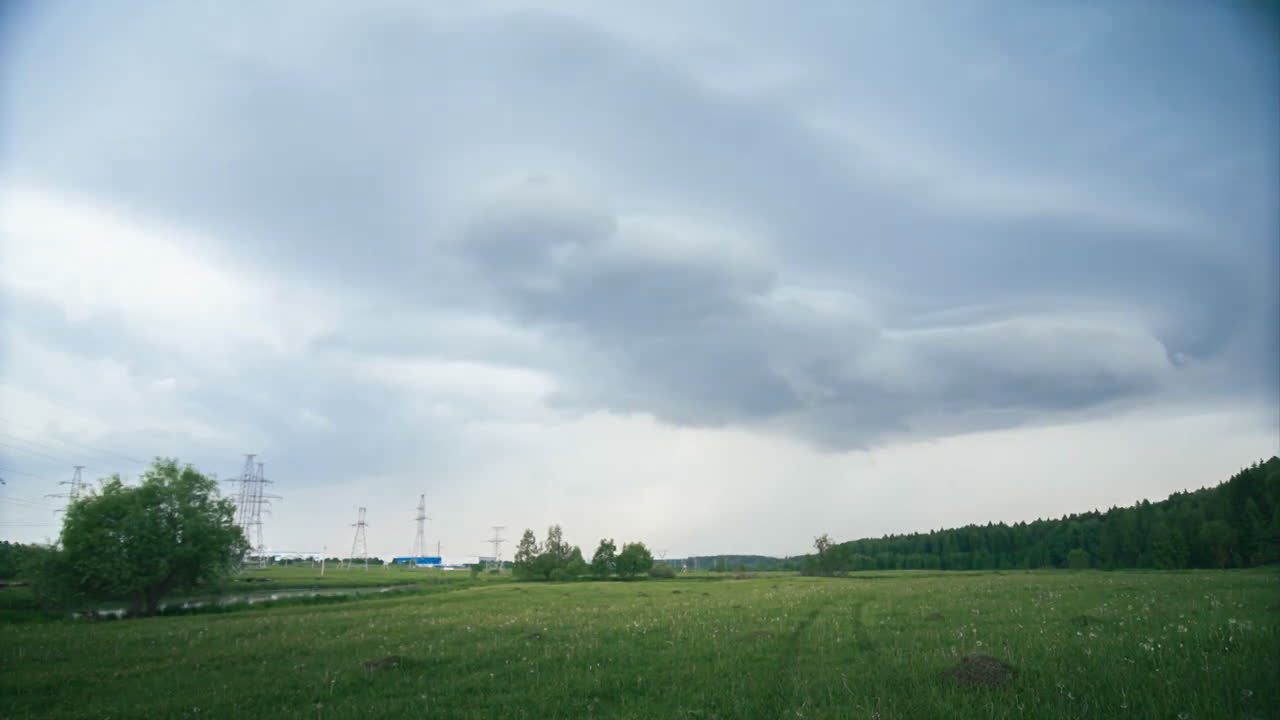mesocyclone: (314, 17, 1245, 401)
striations: (521, 16, 1245, 347)
wall cloud: (439, 175, 1172, 453)
